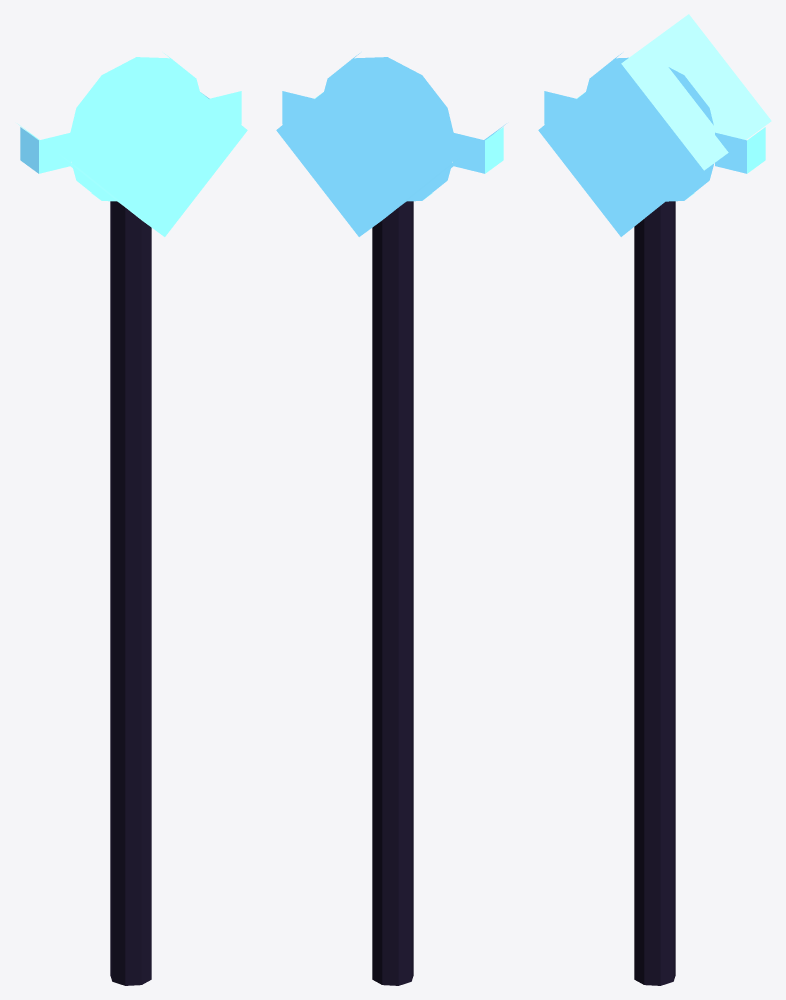
File: dark-seer.glb
3 renders of one model, left to right at view 1: azimuth 30°, elevation 25°; view 2: azimuth 150°, elevation 25°; view 3: azimuth 330°, elevation 25°, orthographic.
Parts seen in each view (by area): view 1: dark-seer-shaft, dark-seer-head-gem, dark-seer-halo, dark-seer-node-r, dark-seer-node-l; view 2: dark-seer-shaft, dark-seer-head-gem, dark-seer-halo, dark-seer-node-r, dark-seer-node-l; view 3: dark-seer-shaft, dark-seer-head-gem, dark-seer-node-l, dark-seer-halo, dark-seer-node-r.
Boxes of the visible parts, box(x1,y1,x2,y2) form: dark-seer-shaft: box(110, 201, 151, 985); dark-seer-head-gem: box(17, 64, 247, 236); dark-seer-halo: box(70, 53, 199, 201); dark-seer-node-r: box(20, 127, 70, 173); dark-seer-node-l: box(202, 91, 241, 124); dark-seer-shaft: box(372, 201, 413, 985); dark-seer-head-gem: box(276, 64, 506, 236); dark-seer-halo: box(324, 53, 453, 201); dark-seer-node-r: box(453, 127, 503, 173); dark-seer-node-l: box(282, 91, 321, 124); dark-seer-shaft: box(634, 201, 675, 985); dark-seer-head-gem: box(538, 14, 771, 236); dark-seer-node-l: box(715, 127, 765, 173); dark-seer-halo: box(586, 53, 714, 201); dark-seer-node-r: box(544, 91, 583, 124).
Size of the model in its own units: 0.38 by 1.68 by 0.22.
